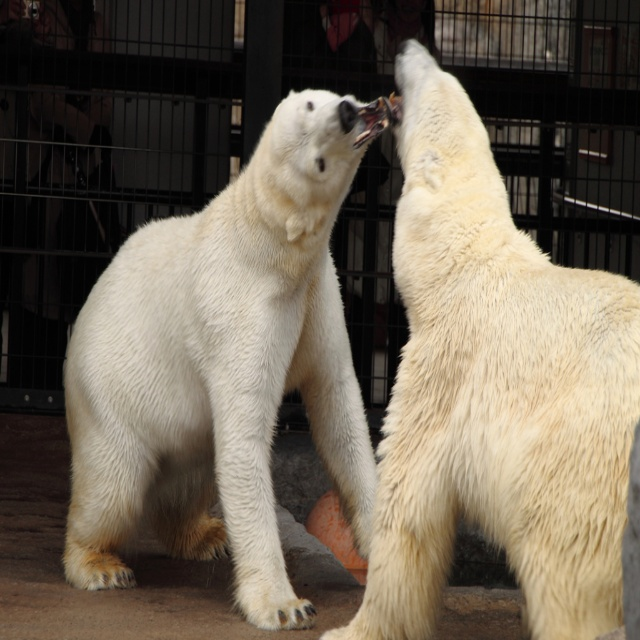Polar bear: (318, 37, 640, 640), (61, 88, 392, 632)
